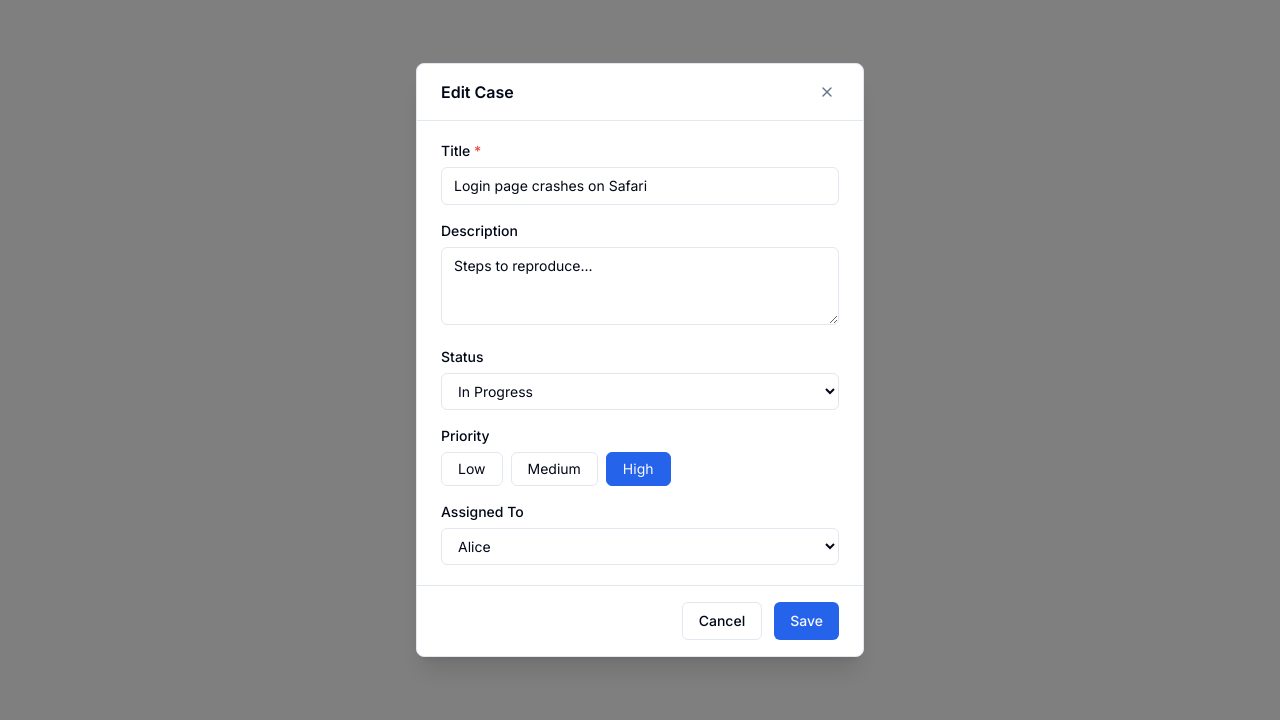
Test: EditCaseModal › shows "Title is required" when submitted with empty title
Clear the field labelled "Title *". click: (640, 186)
box: [441, 167, 839, 205]
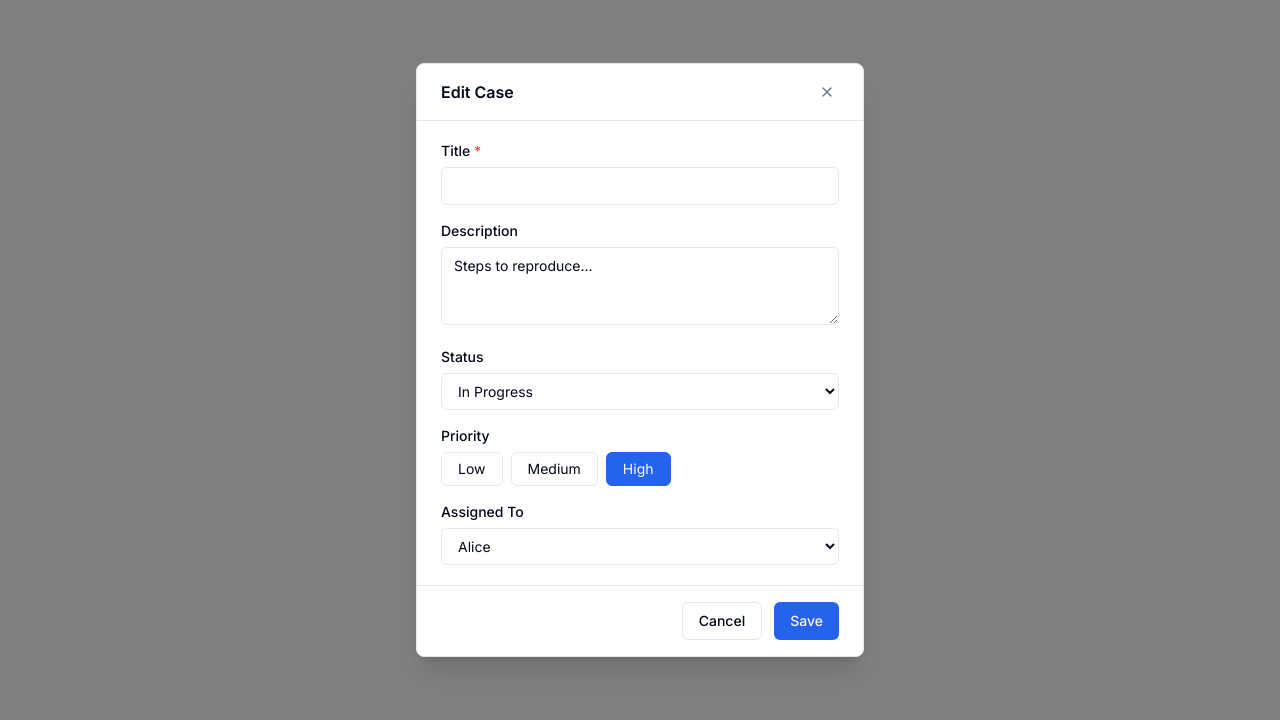
Click the button "Save". click: (807, 621)
box: [774, 602, 839, 640]
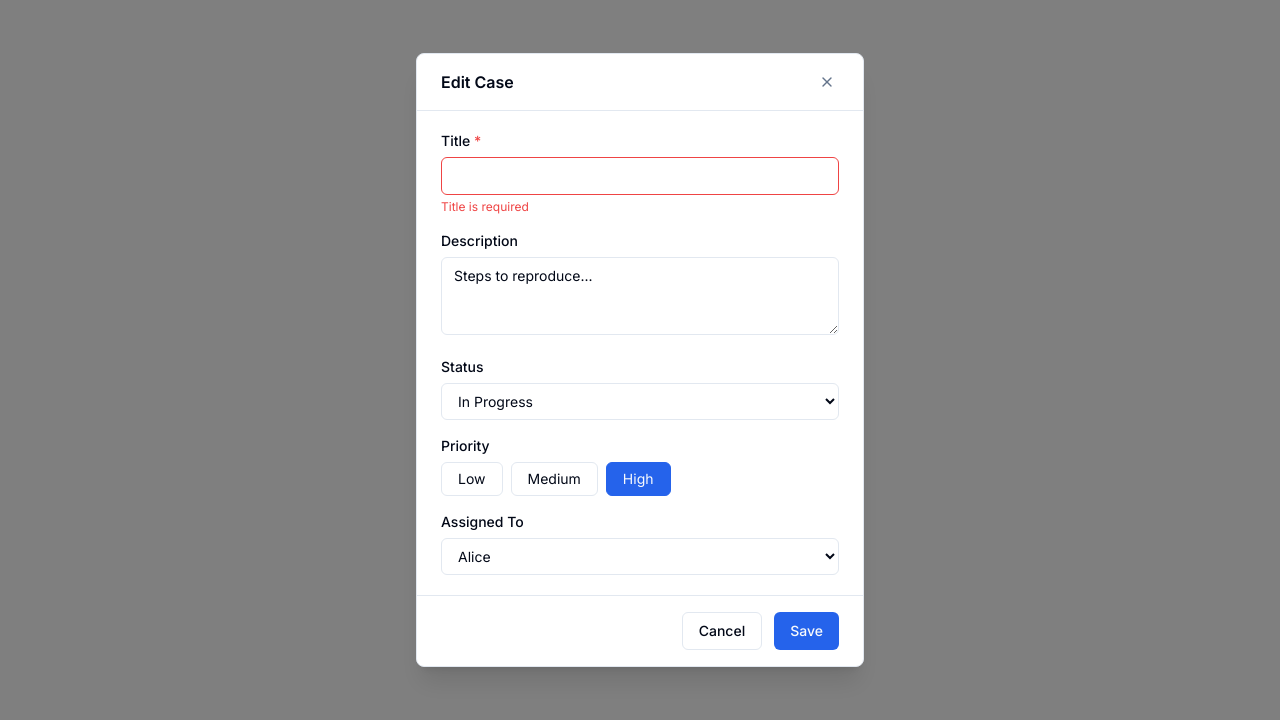
Expected: the text "Title is required" is shown, [441, 199, 529, 214]
